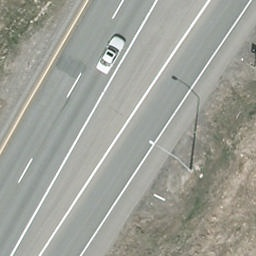car: (93, 34, 127, 77)
